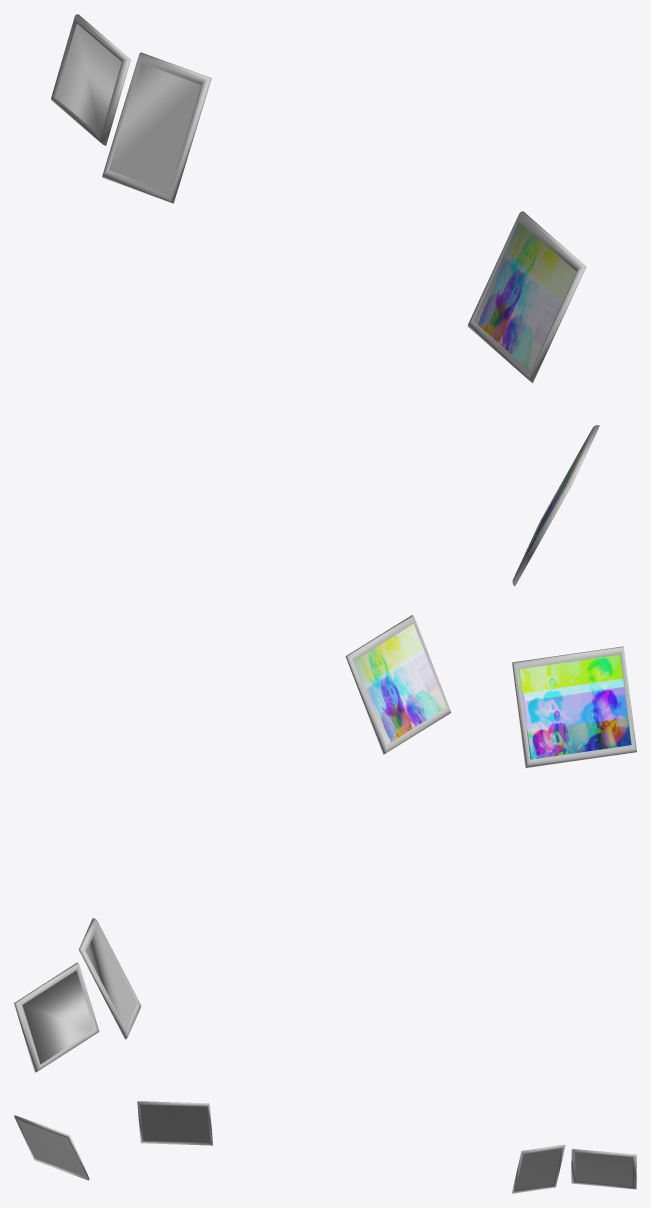
File: 4Photos.fbx
3 renders of one model, top to bottom at view 1: azimuth 30°, elevation 25°; view 2: azimuth 150°, elevation 25°; view 3: azimuth 270°, elevation 25°, orthographic. The views are drawn at different scales.
Parts seen in each view (by area): view 1: OFDesk_Ph_NYC, OFDesk_Ph_Family, OFDesk_Ph_Terry, OFDesk_Ph_Work; view 2: OFDesk_Ph_Work, OFDesk_Ph_NYC, OFDesk_Ph_Terry, OFDesk_Ph_Family; view 3: OFDesk_Ph_NYC, OFDesk_Ph_Terry, OFDesk_Ph_Work, OFDesk_Ph_Family.
Part boxes in pixels (left/top/right/bottom): OFDesk_Ph_NYC: left=467, top=211, right=586, bottom=383; OFDesk_Ph_Family: left=102, top=52, right=211, bottom=203; OFDesk_Ph_Terry: left=51, top=14, right=130, bottom=145; OFDesk_Ph_Work: left=512, top=425, right=599, bottom=586; OFDesk_Ph_Work: left=512, top=646, right=636, bottom=768; OFDesk_Ph_NYC: left=345, top=615, right=450, bottom=754; OFDesk_Ph_Terry: left=14, top=962, right=99, bottom=1072; OFDesk_Ph_Family: left=78, top=918, right=141, bottom=1039; OFDesk_Ph_NYC: left=137, top=1101, right=213, bottom=1145; OFDesk_Ph_Terry: left=571, top=1149, right=636, bottom=1189; OFDesk_Ph_Work: left=14, top=1115, right=89, bottom=1180; OFDesk_Ph_Family: left=512, top=1144, right=565, bottom=1193.
Bounding box in the file's own units: 53.69 × 55.97 × 312.
